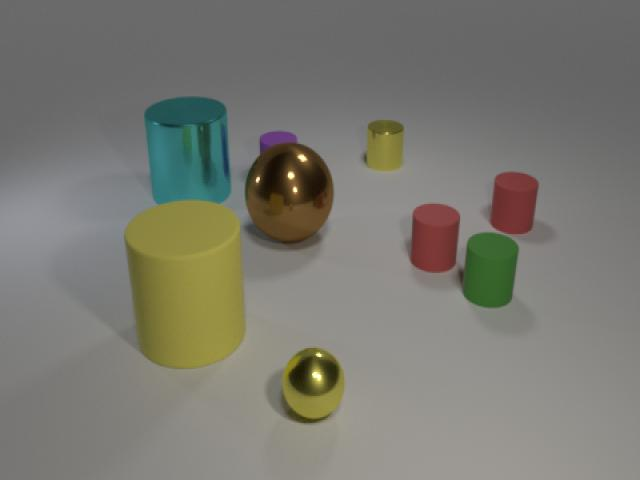cylinder: (116, 194, 251, 375), (136, 90, 235, 210), (459, 224, 524, 312), (408, 200, 462, 280), (487, 164, 540, 237), (362, 114, 409, 174), (255, 118, 301, 156)
round ball: (243, 138, 337, 253), (275, 344, 350, 429)
